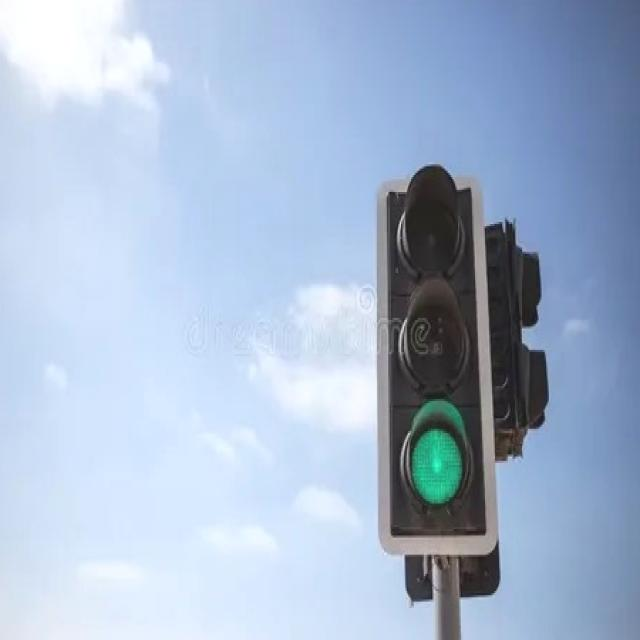yesil: (390, 161, 486, 534)
